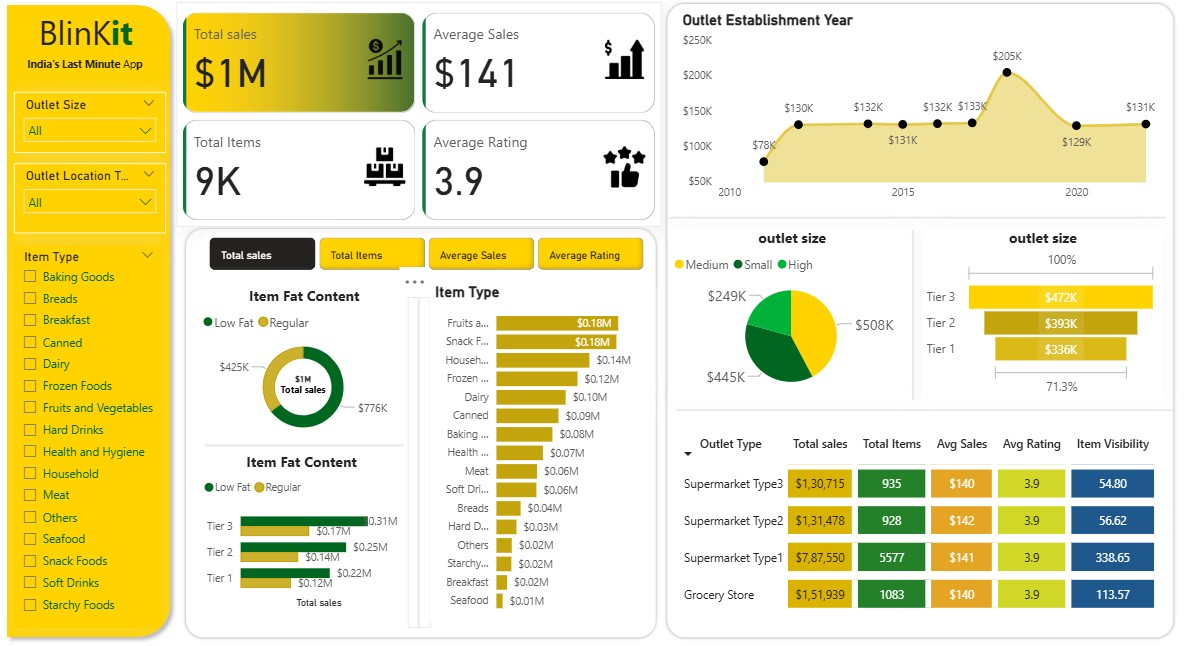

What the dashboard file says about the page in this screenshot:
{"tool":"powerbi","page":{"name":"Dashboard","canvas":[1400,800],"ordinal":0},"visuals":[{"type":"shape","box":[0,0,205.1,740.5],"z":0},{"type":"textbox","box":[294.9,127.8,207.6,54.4],"z":1000},{"type":"textbox","box":[27.8,62,149.4,31.6],"z":2000},{"type":"textbox","box":[15.2,10.1,167.1,67.1],"z":3000},{"type":"shape","box":[205.7,257.1,552.9,482.9],"z":4000},{"type":"cardVisual","fields":{"Data":["BlinkIT Grocery Data.Total sales","BlinkIT Grocery Data.Average Sales","BlinkIT Grocery Data.Total Items","BlinkIT Grocery Data.Average Rating"]},"box":[202.9,5.7,554.3,257.1],"z":5000},{"type":"advancedSlicerVisual","fields":{"Values":["Metrics.Metrics"]},"box":[235.7,270,507.1,47.1],"z":6000},{"type":"donutChart","title":" Item Fat Content","fields":{"Y":["BlinkIT Grocery Data.Total sales"],"Category":["BlinkIT Grocery Data.Item Fat Content"]},"box":[226.6,329.1,241.8,183.5],"z":7000},{"type":"clusteredBarChart","title":" Item Fat Content","fields":{"Y":["BlinkIT Grocery Data.Total sales"],"Category":["BlinkIT Grocery Data.Outlet Location Type"],"Series":["BlinkIT Grocery Data.Item Fat Content"]},"box":[229.1,519,232.9,186.1],"z":8000},{"type":"shape","box":[235.4,498.7,226.6,27.8],"z":9000},{"type":"shape","box":[467.5,342.5,25,378.8],"z":10000},{"type":"barChart","title":" Item Type","fields":{"Y":["BlinkIT Grocery Data.Total sales"],"Category":["BlinkIT Grocery Data.Item Type"]},"box":[492.4,325.3,250.6,387.3],"z":11000},{"type":"shape","box":[755.7,0,594.3,740],"z":12000},{"type":"lineChart","title":" Outlet Establishment Year","fields":{"Y":["BlinkIT Grocery Data.Total sales"],"Category":["BlinkIT Grocery Data.Outlet Establishment Year"]},"box":[775.9,15.2,554.4,226.6],"z":13000},{"type":"pieChart","title":"outlet size","fields":{"Y":["BlinkIT Grocery Data.Total sales"],"Category":["BlinkIT Grocery Data.Outlet Size"]},"box":[765.8,263.3,279.7,198.7],"z":14000},{"type":"funnel","title":"outlet size","fields":{"Y":["BlinkIT Grocery Data.Total sales"],"Category":["BlinkIT Grocery Data.Outlet Location Type"]},"box":[1054.3,262.9,275.7,198.6],"z":15000},{"type":"slicer","title":"outlet size","fields":{"Values":["BlinkIT Grocery Data.Outlet Size"]},"box":[17.7,108.9,173.4,69.6],"z":16000},{"type":"slicer","title":"outlet size","fields":{"Values":["BlinkIT Grocery Data.Outlet Location Type"]},"box":[16.5,189.9,173.4,79.7],"z":17000},{"type":"slicer","title":"outlet size","fields":{"Values":["BlinkIT Grocery Data.Item Type"]},"box":[15.7,282.9,172.9,438.6],"z":18000},{"type":"shape","box":[1035.4,265.8,17.7,194.9],"z":19000},{"type":"shape","box":[765.8,241.8,567.1,21.5],"z":20000},{"type":"shape","box":[774.7,462,567.1,21.5],"z":21000},{"type":"pivotTable","fields":{"Rows":["BlinkIT Grocery Data.Outlet Type"],"Values":["BlinkIT Grocery Data.Total sales","BlinkIT Grocery Data.Total Items","BlinkIT Grocery Data.Average Sales","BlinkIT Grocery Data.Average Rating","Sum(BlinkIT Grocery Data.Item Visibility)"]},"box":[772.9,482.9,560,230],"z":22000},{"type":"cardVisual","title":" Item Fat Content","fields":{"Data":["BlinkIT Grocery Data.Total sales"]},"box":[300,404.3,95.7,78.6],"z":23000}]}

Visuals, with their boxes on the page's 1400x800 design canvas (x1, y1, x2, y2). These are canvas units, not pixel positions in the 1186x646 screenshot, which may show the page scaled, cropped or inside an application window:
shape: 0:0:205:740
textbox: 295:128:502:182
textbox: 28:62:177:94
textbox: 15:10:182:77
shape: 206:257:759:740
cardVisual - BlinkIT Grocery Data.Total sales x BlinkIT Grocery Data.Average Sales: 203:6:757:263
advancedSlicerVisual - Metrics.Metrics: 236:270:743:317
" Item Fat Content" donutChart: 227:329:468:513
" Item Fat Content" clusteredBarChart: 229:519:462:705
shape: 235:499:462:526
shape: 468:342:492:721
" Item Type" barChart: 492:325:743:713
shape: 756:0:1350:740
" Outlet Establishment Year" lineChart: 776:15:1330:242
"outlet size" pieChart: 766:263:1046:462
"outlet size" funnel: 1054:263:1330:462
"outlet size" slicer: 18:109:191:178
"outlet size" slicer: 16:190:190:270
"outlet size" slicer: 16:283:189:722
shape: 1035:266:1053:461
shape: 766:242:1333:263
shape: 775:462:1342:484
pivotTable - BlinkIT Grocery Data.Outlet Type x BlinkIT Grocery Data.Total sales: 773:483:1333:713
" Item Fat Content" cardVisual: 300:404:396:483
